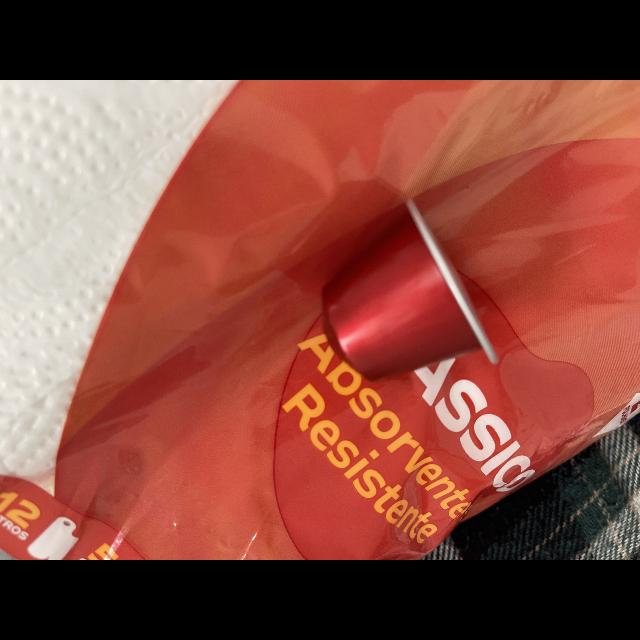intact_capsule: (284, 188, 514, 394)
